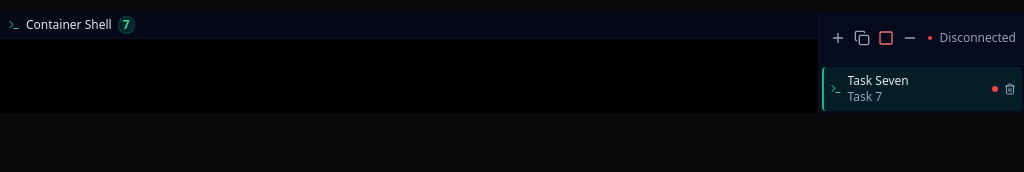
Test case: TerminalPanel lifecycle › deleting the last terminal clears the persisted list and viewport state
Click the button titled "Close terminal" at (1010, 89), box [1004,83,1016,95]
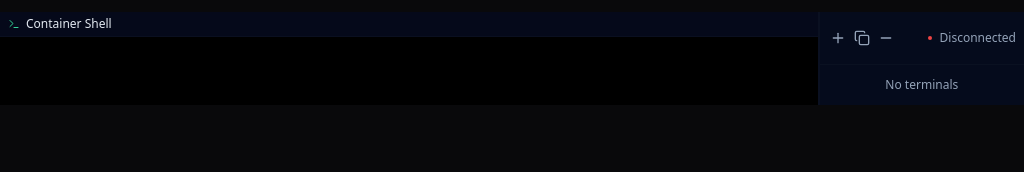
Check: the text "No terminals" is shown, box [885,76,958,93]
